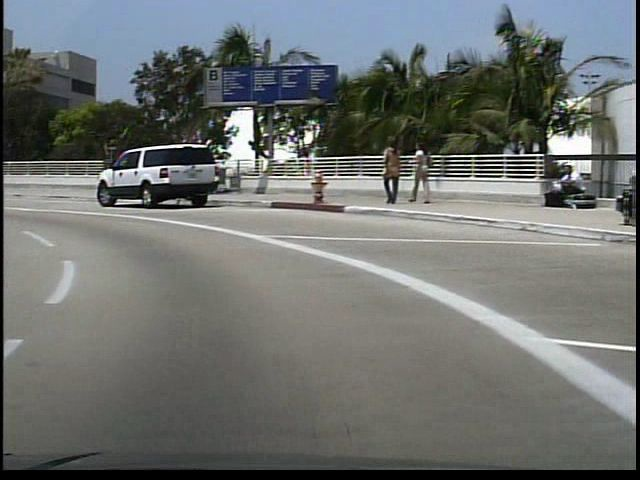person: (403, 140, 428, 207), (378, 136, 400, 211), (545, 163, 581, 208)
